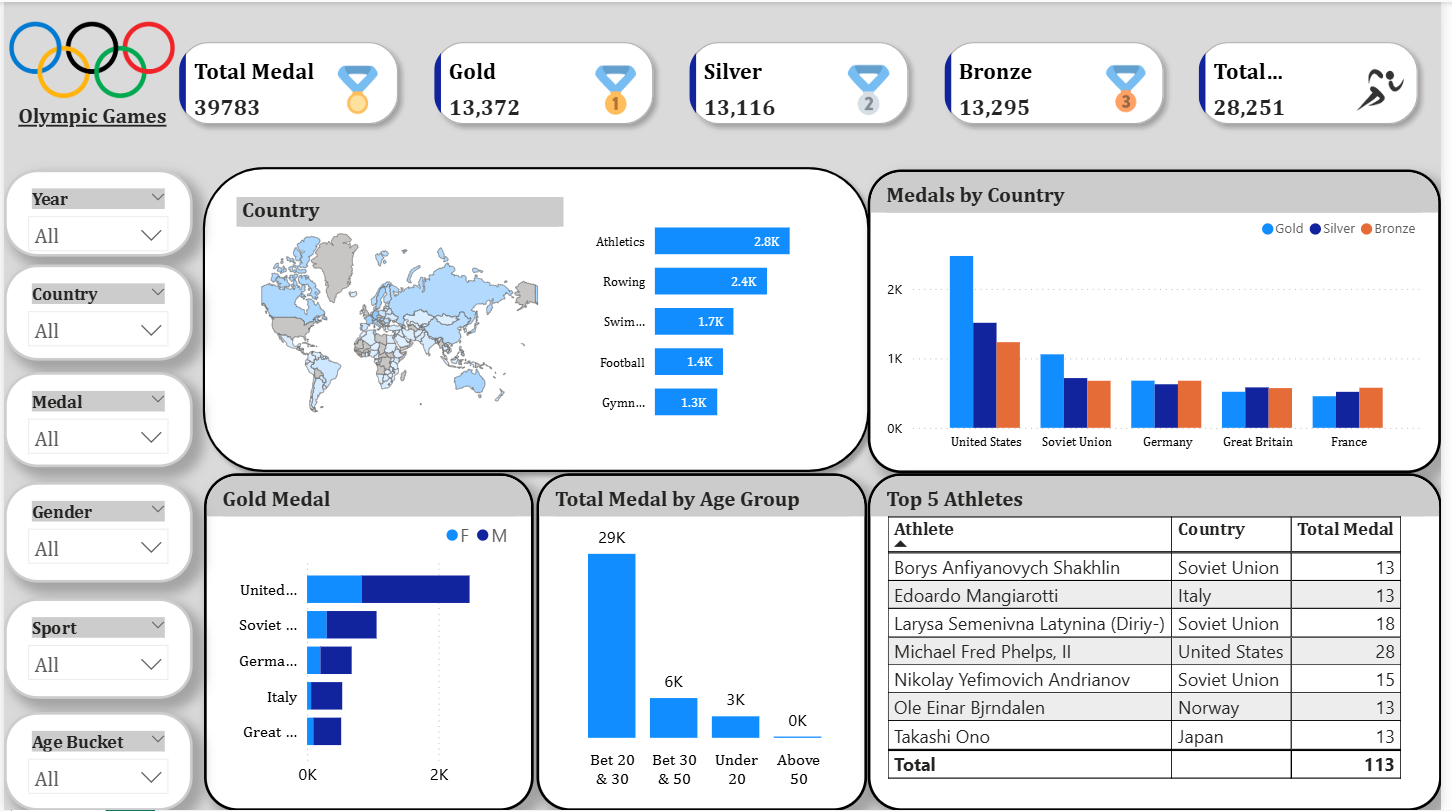

This screenshot's page, from the dashboard's own definition file:
{"tool":"tableau","page":{"name":"Dashboard","canvas":[1000,1000],"units":"permille","ordinal":0},"visuals":[{"type":"title","box":[4.8,10,990.3,72.4]},{"type":"worksheet","title":"Total Athletes","mark":"Automatic","box":[806.9,96.1,150.3,138.6]},{"type":"worksheet","title":"Bronze","mark":"Automatic","box":[659,97.4,126.1,134.8]},{"type":"worksheet","title":"Total Medal","mark":"Automatic","box":[187.7,98.6,141.2,134.8]},{"type":"worksheet","title":"Gold","mark":"Automatic","box":[354.9,98.6,126.7,131.1]},{"type":"worksheet","title":"Sliver","mark":"Automatic","box":[508.2,98.6,127.3,131.1]},{"type":"image","param":"C:/Users/shrav/Desktop/Personal/GEETA/Own Project/Project 2 (Olympic Dataset Ana","box":[9.1,101.1,145.4,132.3]},{"type":"image","param":"C:/Users/shrav/Desktop/Personal/GEETA/Own Project/Project 2 (Olympic Dataset Ana","box":[908.3,107.4,46.5,98.6]},{"type":"image","param":"C:/Users/shrav/Desktop/Personal/GEETA/Own Project/Project 2 (Olympic Dataset Ana","box":[282.4,111.1,38.6,77.4]},{"type":"image","param":"C:/Users/shrav/Desktop/Personal/GEETA/Own Project/Project 2 (Olympic Dataset Ana","box":[580.6,111.1,38.6,83.7]},{"type":"image","param":"C:/Users/shrav/Desktop/Personal/GEETA/Own Project/Project 2 (Olympic Dataset Ana","box":[422.4,112.4,40.4,81.2]},{"type":"image","param":"C:/Users/shrav/Desktop/Personal/GEETA/Own Project/Project 2 (Olympic Dataset Ana","box":[732.1,116.1,40.4,89.9]},{"type":"text","box":[7.9,242.2,127.9,37.5]},{"type":"worksheet","title":"Top Sports","mark":"Automatic","box":[465.3,242.2,262.5,333.3]},{"type":"worksheet","title":"Medals by Country","mark":"Automatic","rows":["Team"],"box":[140.6,243.5,319.2,333.3]},{"type":"worksheet","title":"Gold Medal","mark":"Automatic","rows":["Calculation_936185807034064898"],"cols":["Team"],"box":[733.9,243.5,252.9,333.3]},{"type":"text","box":[12.1,303.4,112.2,37.5]},{"type":"filter","title":"Country wise Medals","param":"[federated.1n5n0es17rnj1o14utwac0sbum7g].[none:Sport:nk]","box":[6,355.8,123.1,104.1]},{"type":"filter","title":"Country wise Medals","param":"[federated.1n5n0es17rnj1o14utwac0sbum7g].[none:Sex:nk]","box":[6,459.9,123.1,103.6]},{"type":"filter","title":"Country wise Medals","param":"[federated.1n5n0es17rnj1o14utwac0sbum7g].[none:Calculation_936185807035502597:nk","box":[6,563.6,123.1,104.1]},{"type":"worksheet","title":"Total Medal by Age Group","mark":"Automatic","rows":["Calculation_936185807031521280"],"cols":["Calculation_936185807035502597"],"box":[465.9,591.8,261.9,383.3]},{"type":"worksheet","title":"Country wise Medals","mark":"Automatic","box":[133.4,594.3,325.3,383.3]},{"type":"filter","title":"Country wise Medals","param":"[federated.1n5n0es17rnj1o14utwac0sbum7g].[none:Medal:nk]","box":[6,667.7,123.1,104.1]},{"type":"filter","title":"Country wise Medals","param":"[federated.1n5n0es17rnj1o14utwac0sbum7g].[none:Team:nk]","box":[6,771.8,123.1,104.1]},{"type":"filter","title":"Country wise Medals","param":"[federated.1n5n0es17rnj1o14utwac0sbum7g].[none:Year:qk]","box":[6,875.9,123.1,104.1]}]}

Visuals, with their boxes on the dashboard's canvas, which has no fixed pixel size, in thousandths of its width and height (x1, y1, x2, y2). These are canvas units, not pixel positions in the 1452x811 screenshot, which may show the page scaled, cropped or inside an application window:
title: locate(5, 10, 995, 82)
"Total Athletes" worksheet: locate(807, 96, 957, 235)
"Bronze" worksheet: locate(659, 97, 785, 232)
"Total Medal" worksheet: locate(188, 99, 329, 233)
"Gold" worksheet: locate(355, 99, 482, 230)
"Sliver" worksheet: locate(508, 99, 636, 230)
image: locate(9, 101, 154, 233)
image: locate(908, 107, 955, 206)
image: locate(282, 111, 321, 188)
image: locate(581, 111, 619, 195)
image: locate(422, 112, 463, 194)
image: locate(732, 116, 772, 206)
text: locate(8, 242, 136, 280)
"Top Sports" worksheet: locate(465, 242, 728, 576)
"Medals by Country" worksheet: locate(141, 244, 460, 577)
"Gold Medal" worksheet: locate(734, 244, 987, 577)
text: locate(12, 303, 124, 341)
"Country wise Medals" filter: locate(6, 356, 129, 460)
"Country wise Medals" filter: locate(6, 460, 129, 564)
"Country wise Medals" filter: locate(6, 564, 129, 668)
"Total Medal by Age Group" worksheet: locate(466, 592, 728, 975)
"Country wise Medals" worksheet: locate(133, 594, 459, 978)
"Country wise Medals" filter: locate(6, 668, 129, 772)
"Country wise Medals" filter: locate(6, 772, 129, 876)
"Country wise Medals" filter: locate(6, 876, 129, 980)
